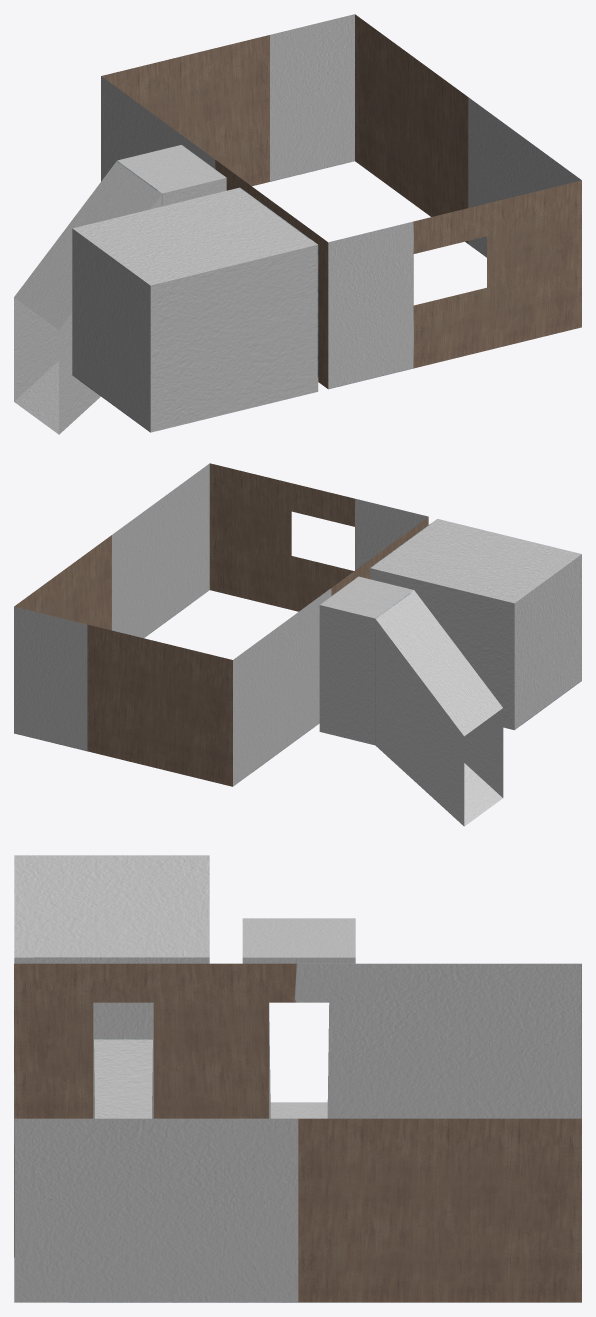
File: walls.fbx
The picture shows the model from 3 angles, top to bottom: view 1: azimuth 30°, elevation 25°; view 2: azimuth 150°, elevation 25°; view 3: azimuth 270°, elevation 25°; orthographic projection. The views are drawn at different scales.
Visible parts, largest first — view 1: walls; view 2: walls; view 3: walls.
Part boxes in pixels (x1,y1,x2,y2): walls: (14, 14, 581, 434); walls: (14, 463, 581, 826); walls: (14, 855, 581, 1302).
Bounding box in the file's own units: 608 × 291 × 555.
